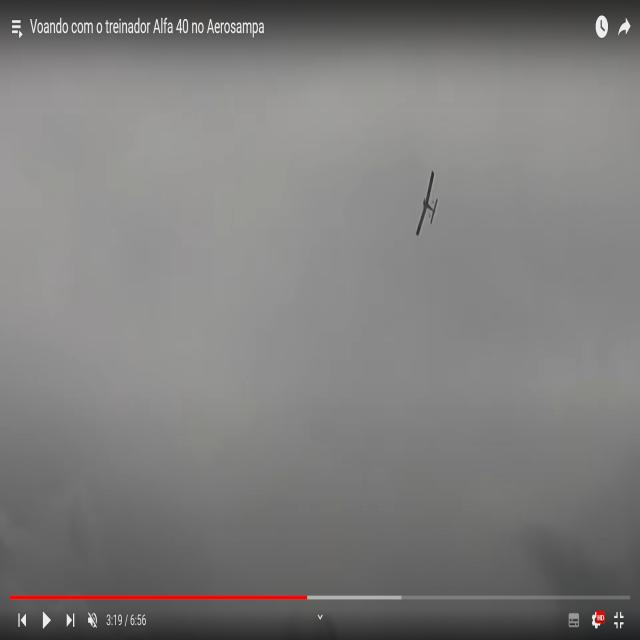iha: (415, 194, 439, 198)
